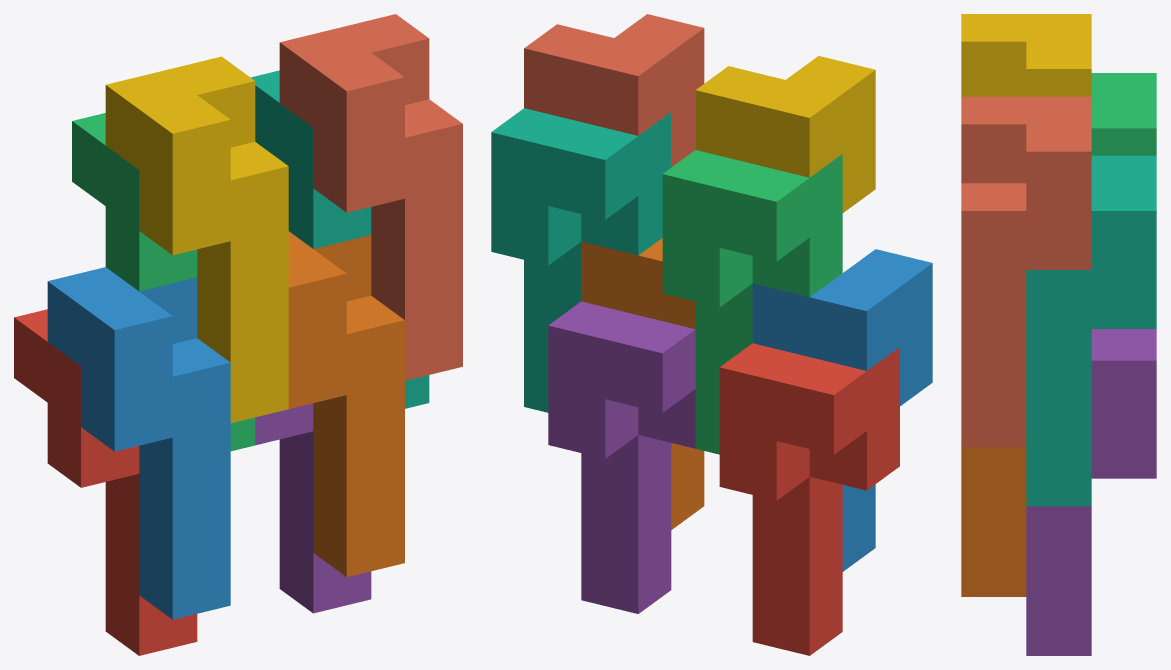
Rendered from tiling.obj.
3 renders of one model, left to right at view 1: azimuth 30°, elevation 25°; view 2: azimuth 150°, elevation 25°; view 3: azimuth 270°, elevation 25°, orthographic. The views are drawn at different scales.
Visible parts, largest first — view 1: copy_1_domain_2, copy_1_domain_4, copy_1_domain_8, copy_1_domain_6, copy_1_domain_1, copy_1_domain_3, copy_1_domain_5, copy_1_domain_7; view 2: copy_1_domain_1, copy_1_domain_5, copy_1_domain_3, copy_1_domain_7, copy_1_domain_2, copy_1_domain_4, copy_1_domain_8, copy_1_domain_6; view 3: copy_1_domain_8, copy_1_domain_7, copy_1_domain_5, copy_1_domain_4, copy_1_domain_6, copy_1_domain_3.
Boxes of the visible parts, x1,y1,x2,y2 form: copy_1_domain_2: (47, 267, 230, 619); copy_1_domain_4: (105, 56, 288, 423); copy_1_domain_8: (279, 14, 462, 380); copy_1_domain_6: (288, 231, 404, 576); copy_1_domain_1: (14, 309, 197, 655); copy_1_domain_3: (72, 113, 255, 451); copy_1_domain_5: (255, 403, 371, 613); copy_1_domain_7: (251, 70, 429, 408); copy_1_domain_1: (719, 343, 899, 655); copy_1_domain_5: (548, 301, 695, 613); copy_1_domain_3: (662, 150, 842, 454); copy_1_domain_7: (491, 108, 671, 412); copy_1_domain_2: (752, 249, 932, 571); copy_1_domain_4: (695, 56, 875, 212); copy_1_domain_8: (524, 14, 704, 167); copy_1_domain_6: (581, 238, 704, 529); copy_1_domain_8: (961, 96, 1091, 447); copy_1_domain_7: (1026, 155, 1156, 506); copy_1_domain_5: (1026, 329, 1156, 655); copy_1_domain_4: (961, 14, 1091, 96); copy_1_domain_6: (961, 447, 1026, 596); copy_1_domain_3: (1091, 73, 1156, 155).
Size of the model in its own units: 6 by 9 by 3.
